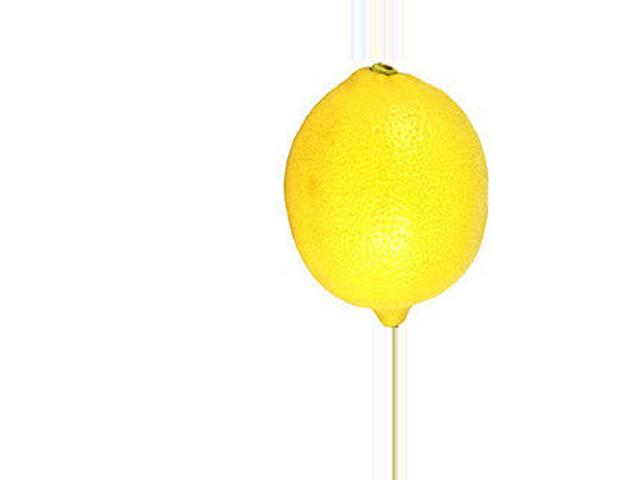lemon: (281, 65, 486, 322)
